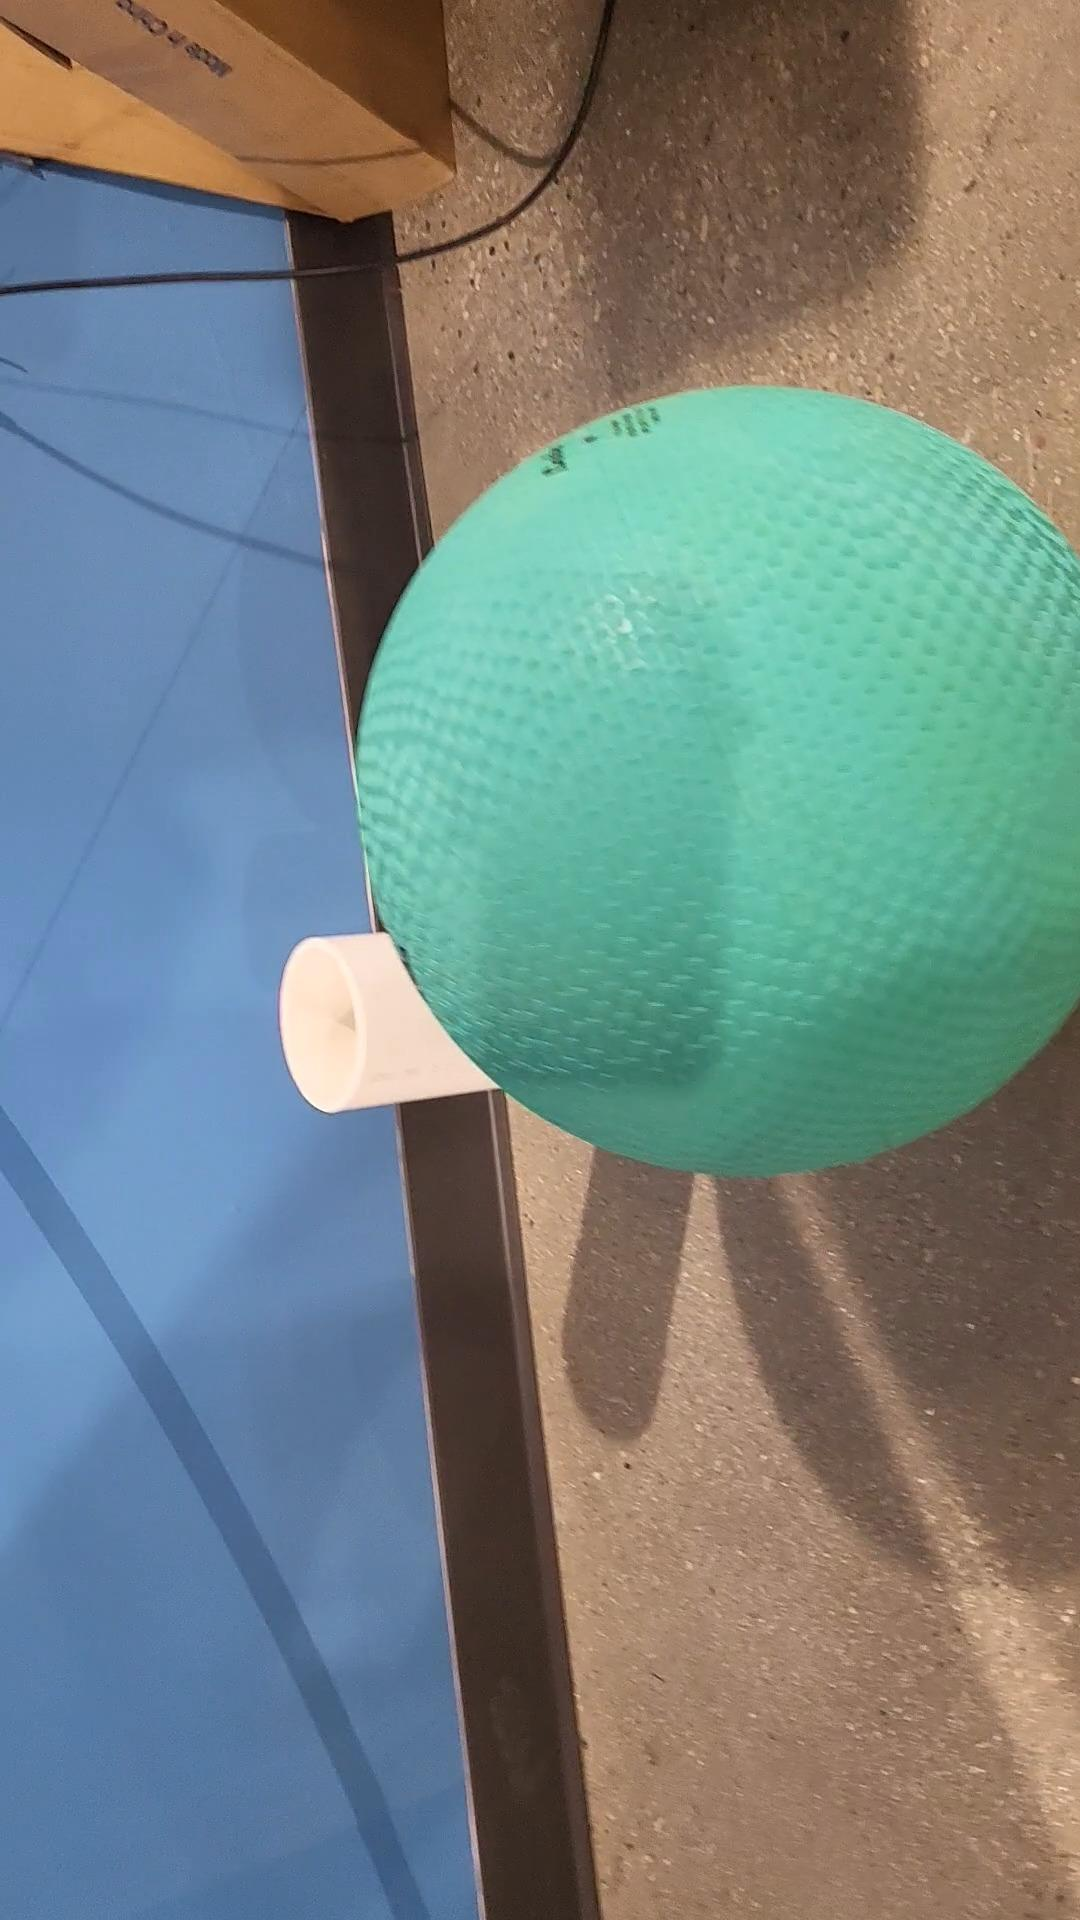algae: (355, 385, 1080, 1180)
coral: (282, 935, 508, 1116)
